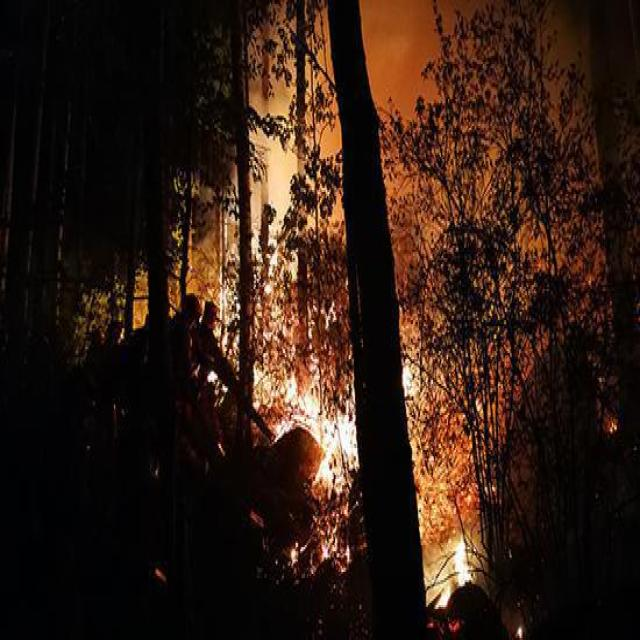fire: (396, 353, 496, 583), (253, 334, 358, 492)
